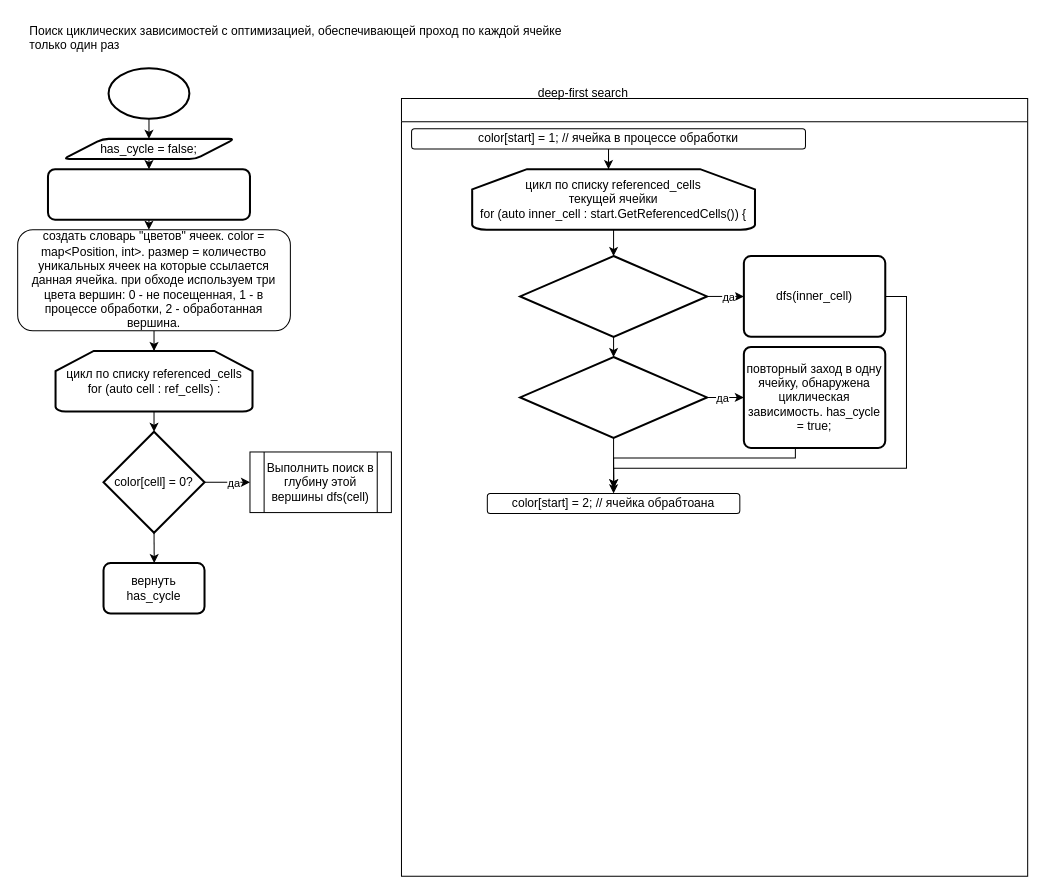
Some shapes in this 1045 by 894 pixel diagram are drawn without their labels. The shapes that lost their labels are listed below. From the top down, each one's box as (x1, y1, x2, y2) in pixels, then its label:
(107, 67, 190, 119): start
(46, 168, 250, 220): Получить список всех ячеек, на которе непосредственно ссылается ячейка
(519, 255, 708, 337): color[inner_cell} == 0 ?
(519, 356, 708, 438): color[inner_cell} == 1 ?
(400, 97, 1028, 876): dfs(start)
